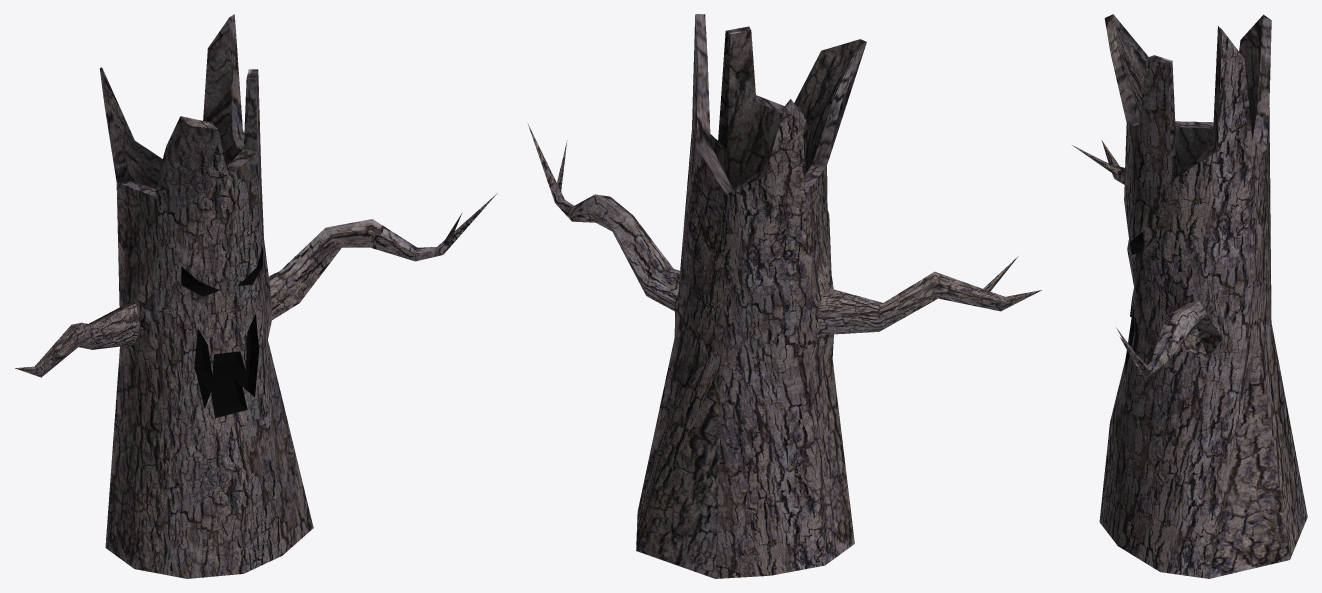
File: evil_tree.fbx
3 views of the same model, side by side, from view 1: azimuth 30°, elevation 25°; view 2: azimuth 150°, elevation 25°; view 3: azimuth 270°, elevation 25° (orthographic). The views are drawn at different scales.
Visible parts, largest first — view 1: evil_tree; view 2: evil_tree; view 3: evil_tree.
Part boxes in pixels (x1,y1,x2,y2): evil_tree: (15, 14, 497, 578); evil_tree: (527, 14, 1041, 578); evil_tree: (1072, 14, 1307, 578).
Bounding box in the file's own units: 7.32 × 7.15 × 2.96.
